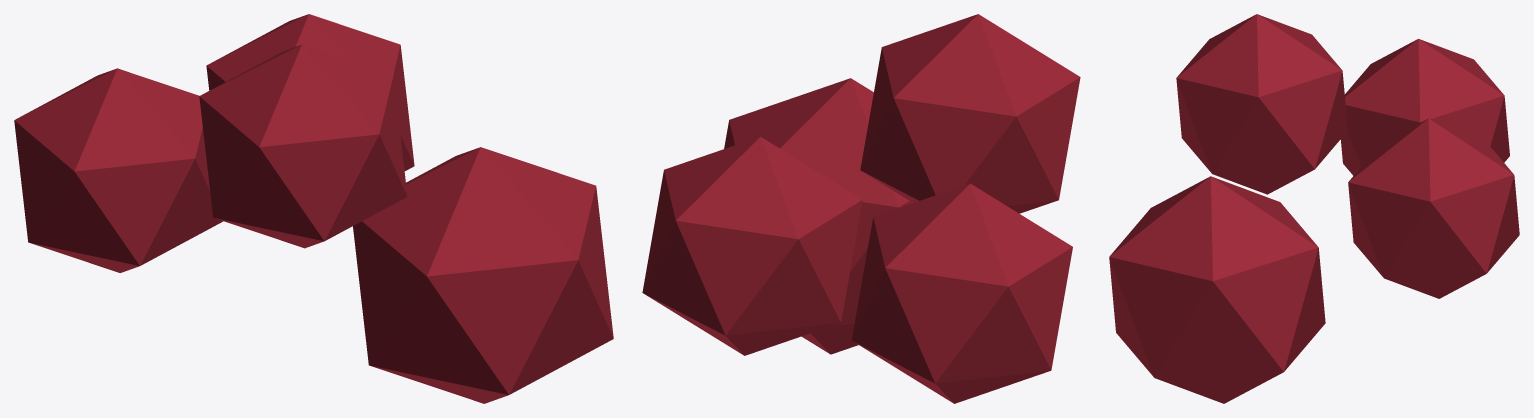
File: BlueBerry.fbx
3 renders of one model, left to right at view 1: azimuth 30°, elevation 25°; view 2: azimuth 150°, elevation 25°; view 3: azimuth 270°, elevation 25°, orthographic. The views are drawn at different scales.
Visible parts, largest first — view 1: Berries; view 2: Berries; view 3: Berries.
Boxes of the visible parts, x1=… form: Berries: x1=14, y1=14, x2=613, y2=403; Berries: x1=642, y1=14, x2=1080, y2=403; Berries: x1=1109, y1=14, x2=1519, y2=403.
Size of the model in its own units: 8.57 by 7.15 by 8.23.
